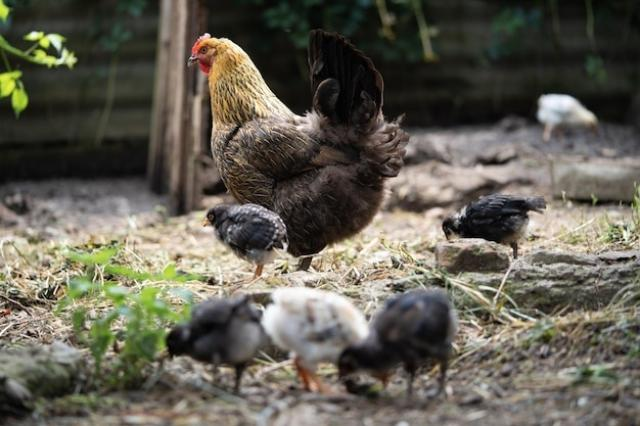Chicken: (187, 33, 408, 272)
